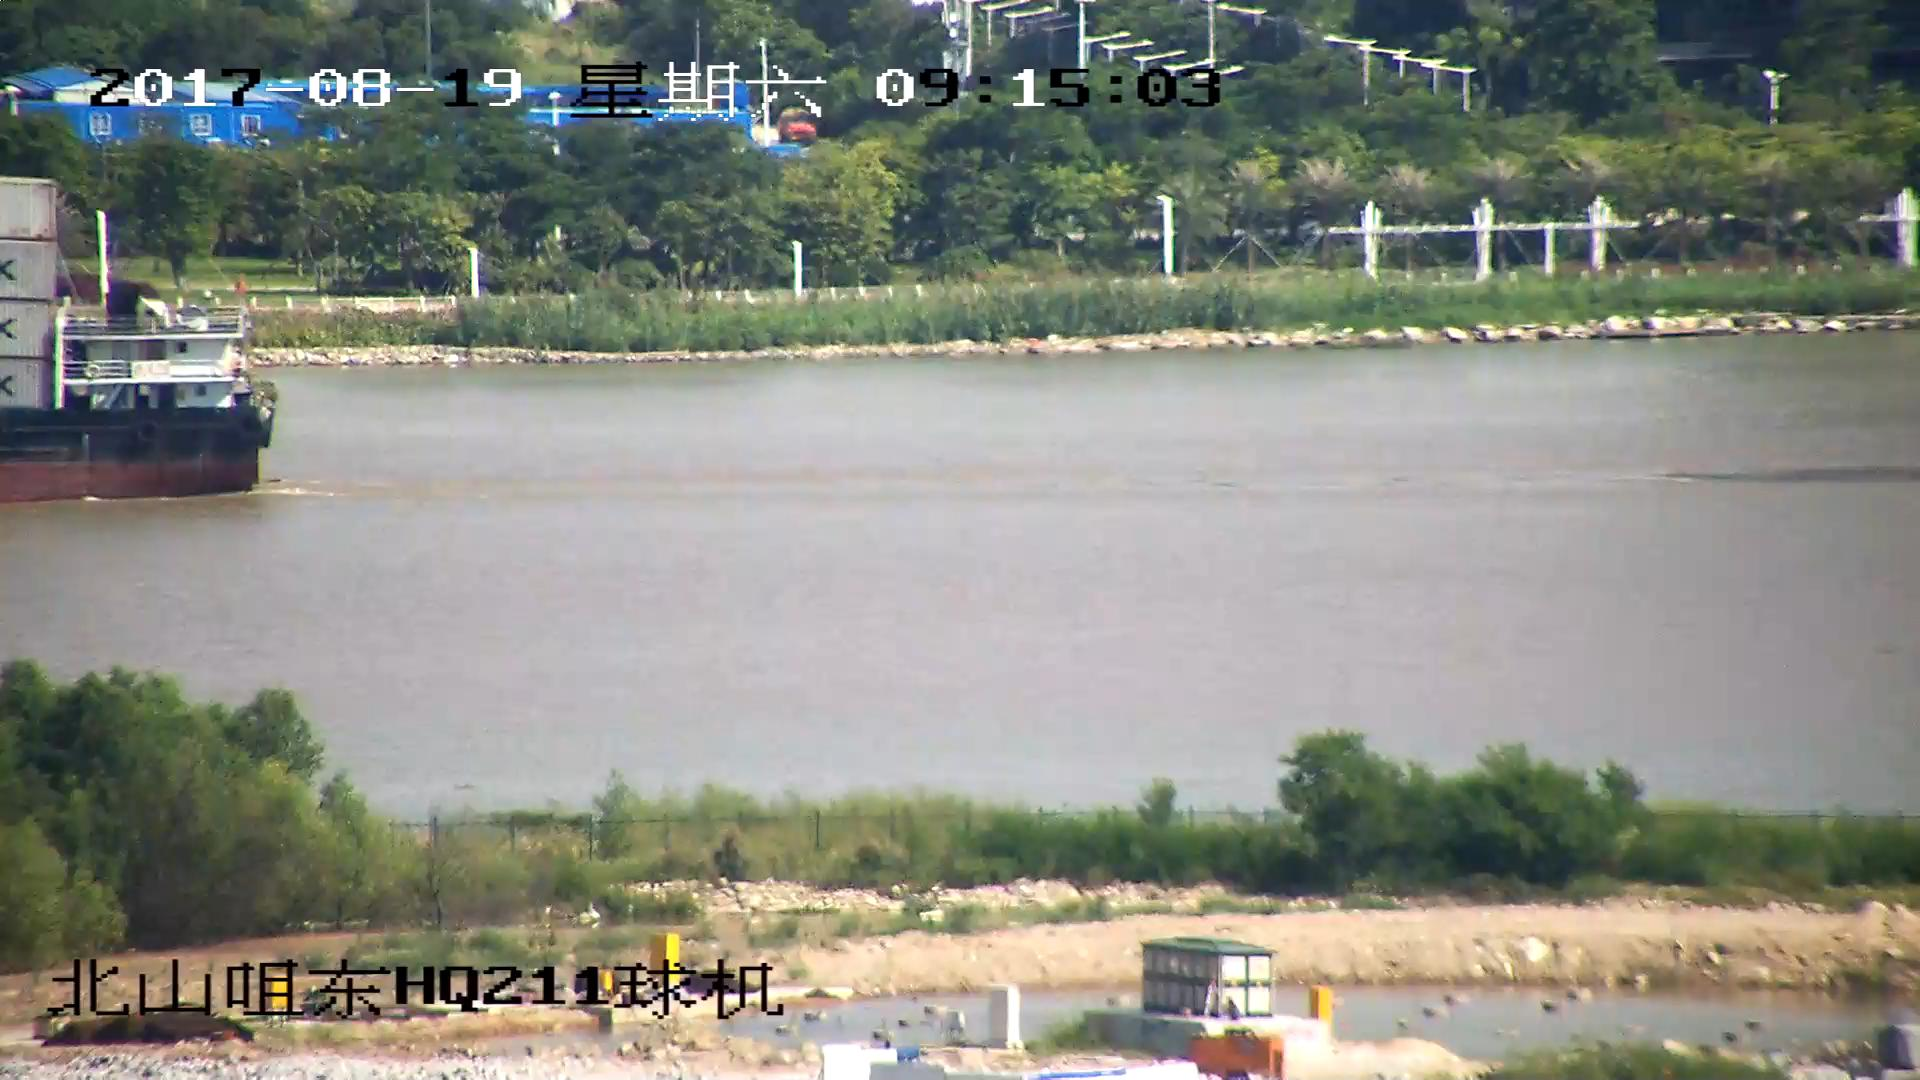container ship: (1, 182, 284, 506)
